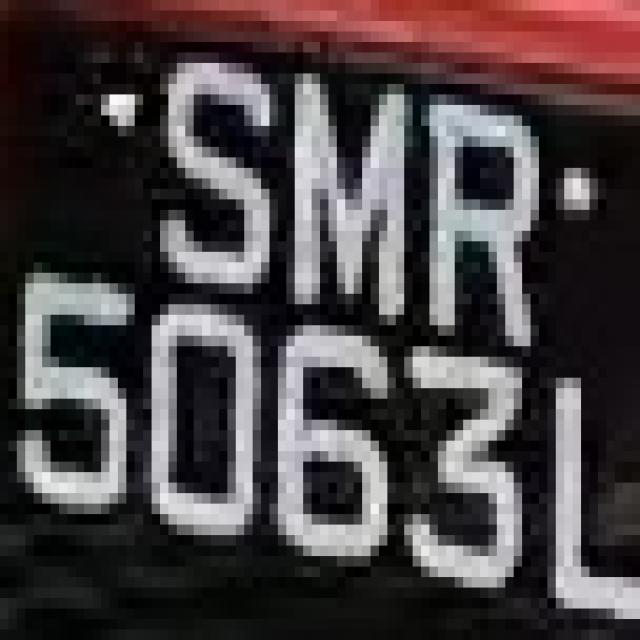0: (126, 262, 278, 546)
3: (396, 315, 530, 598)
5: (17, 230, 143, 546)
6: (253, 283, 404, 588)
L: (530, 336, 632, 630)
M: (253, 53, 421, 304)
R: (430, 74, 548, 368)
S: (134, 10, 294, 294)
